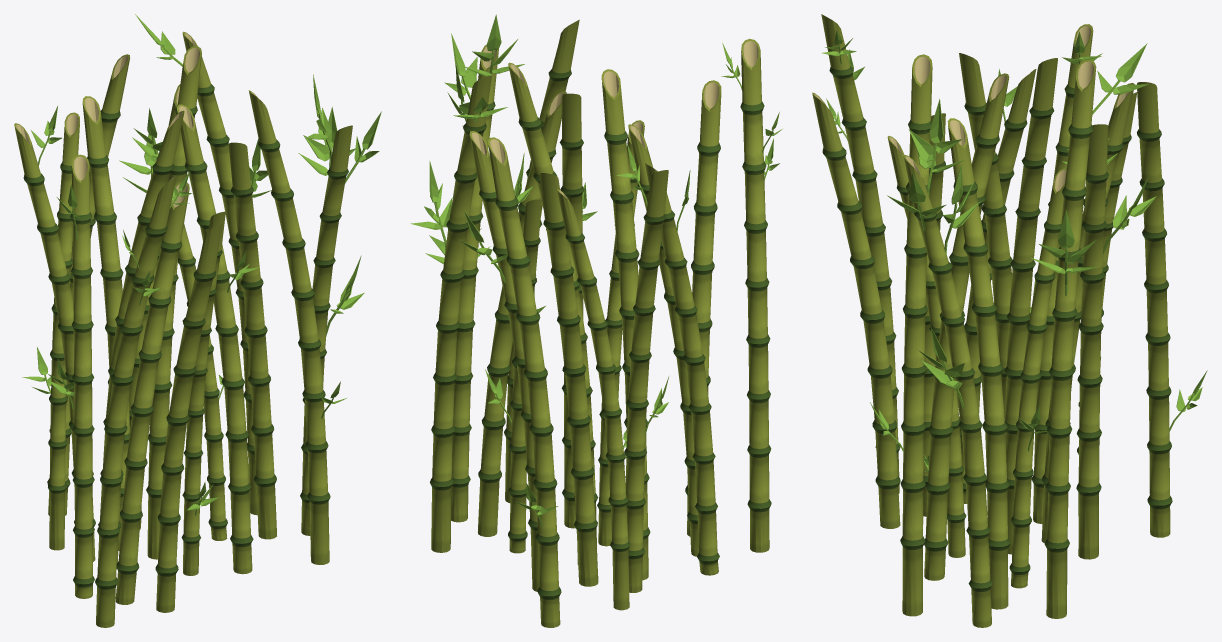
The model's file is bambu.fbx.
3 renders of one model, left to right at view 1: azimuth 30°, elevation 25°; view 2: azimuth 150°, elevation 25°; view 3: azimuth 270°, elevation 25°, orthographic. The views are drawn at different scales.
Parts seen in each view (by area): view 1: bases_2.019; view 2: bases_2.019; view 3: bases_2.019.
Part boxes in pixels (x1=…): bases_2.019: x1=14, y1=14, x2=381, y2=627; bases_2.019: x1=410, y1=14, x2=782, y2=627; bases_2.019: x1=812, y1=14, x2=1207, y2=627.
Bounding box in the file's own units: 366 × 566 × 385.
